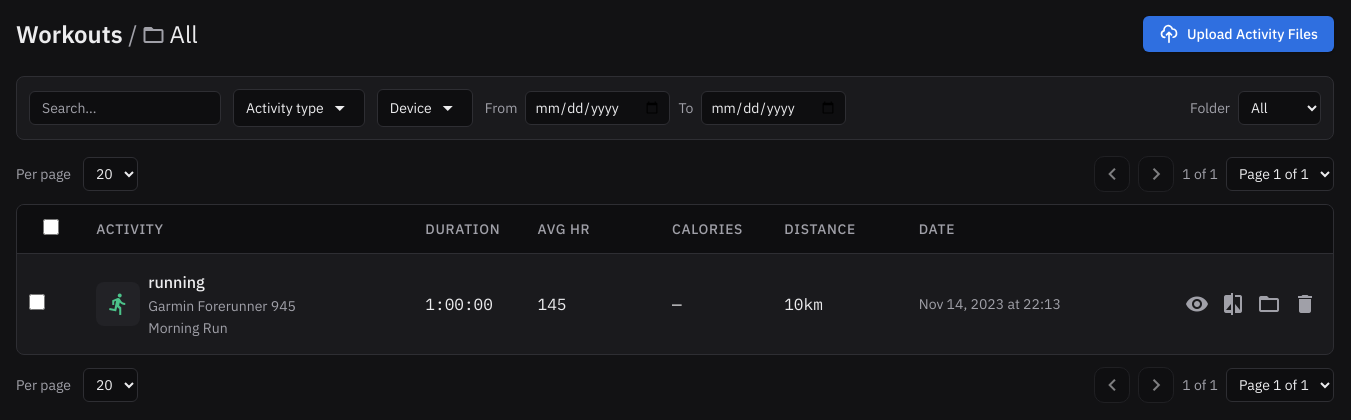
Workouts › row selection shows bulk bar and Clear removes selection
Click the checkbox named "Select event Morning Run" at (37,302), box x1=29 y1=294 x2=45 y2=310
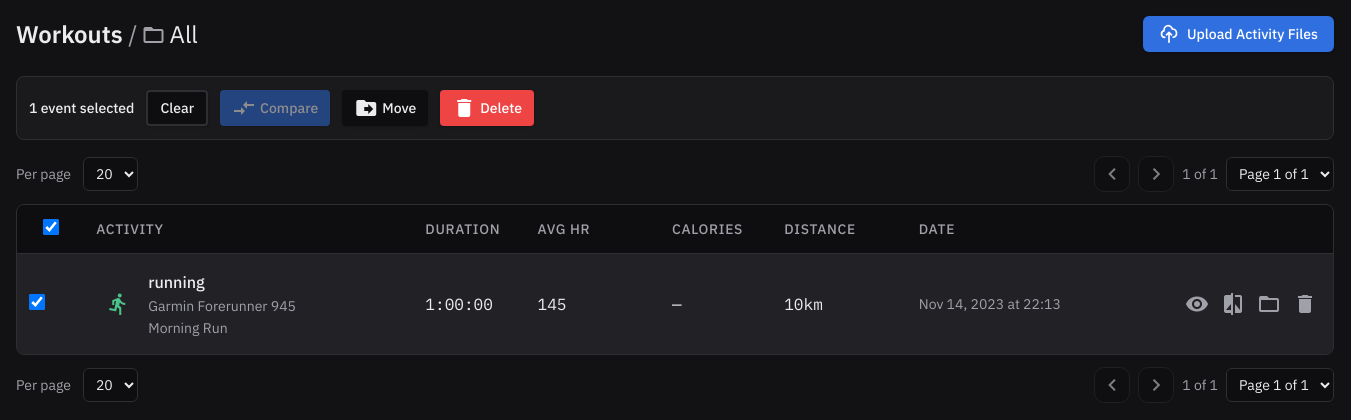
Expected: the button "Clear" is shown
Click the button "Clear" at (177,108), box x1=146 y1=90 x2=208 y2=126
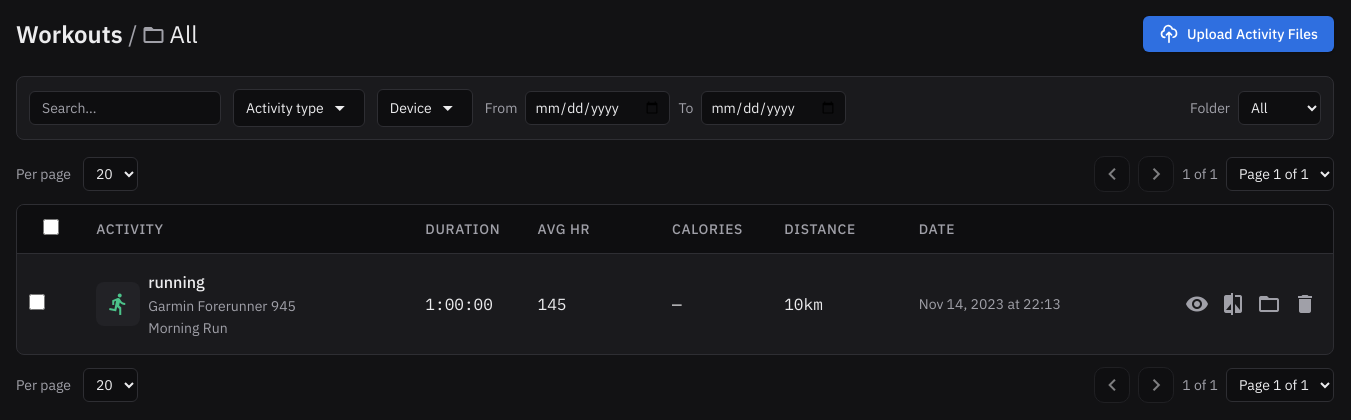
Expected: the button "Clear" is gone
